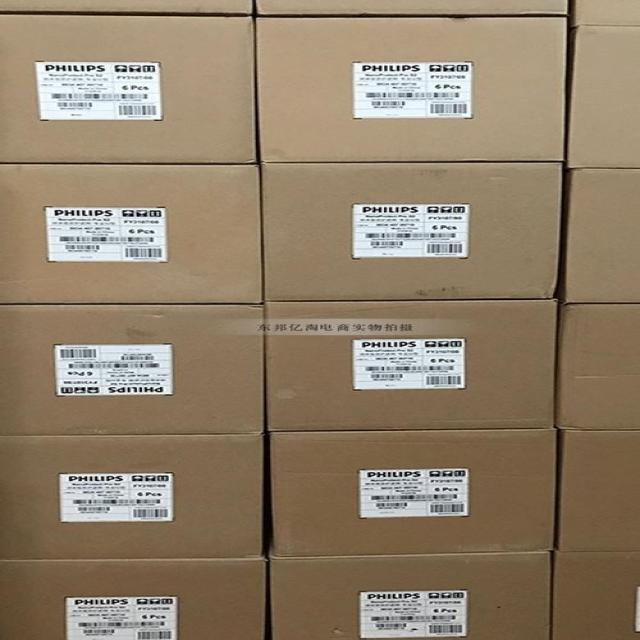box: (257, 17, 571, 161), (261, 161, 559, 301), (264, 298, 558, 430), (0, 14, 257, 163), (0, 165, 264, 304), (270, 428, 557, 555), (0, 305, 264, 436), (0, 434, 262, 559), (269, 543, 552, 640), (0, 554, 269, 640), (554, 302, 639, 429), (567, 25, 640, 169), (563, 169, 640, 303), (559, 428, 640, 552), (553, 547, 640, 640), (256, 0, 570, 15), (0, 0, 252, 14), (570, 0, 640, 27)
